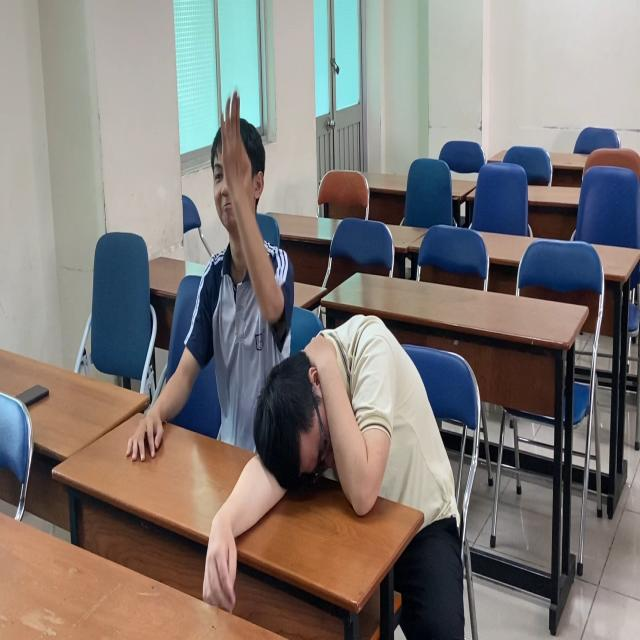raise_hand: (182, 81, 293, 420)
sleep: (250, 298, 443, 521)
